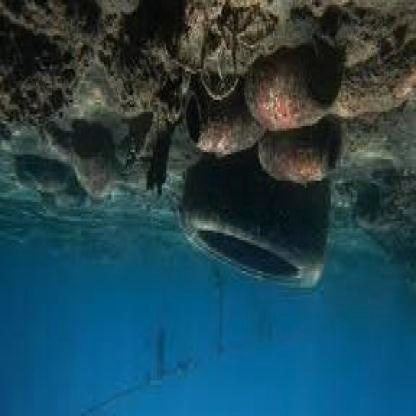gbottle: (248, 45, 344, 145), (178, 76, 264, 169), (266, 117, 344, 202)
tire: (172, 162, 354, 314)
